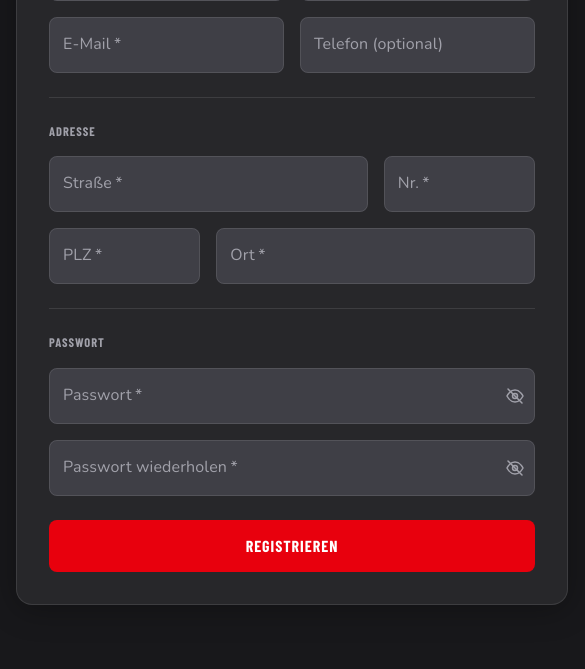
Test: US16 – Registrierungsformular (Black-Box) › Vorname leer → Fehler "Pflichtfeld"
(page scrolled)
Click the button "Registrieren" at [292, 546], box top-left (49, 520), bottom-right (535, 572)
(page scrolled)
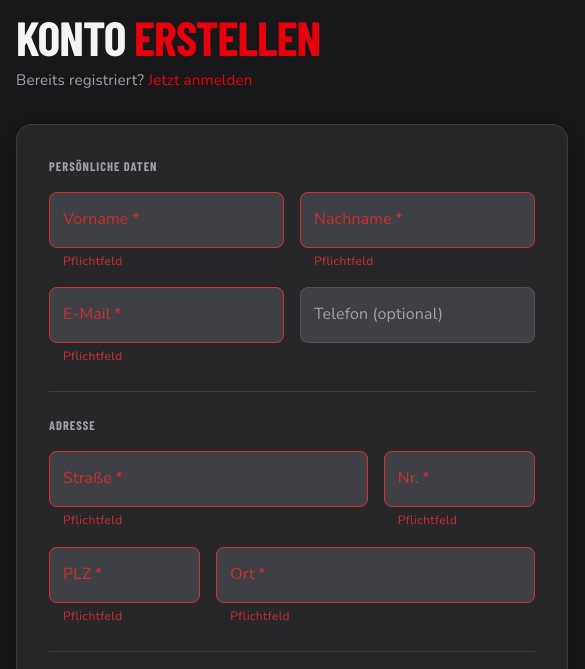
expect the element labelled "Vorname * Pflichtfeld" is shown: met, box top-left (49, 192), bottom-right (284, 271)
